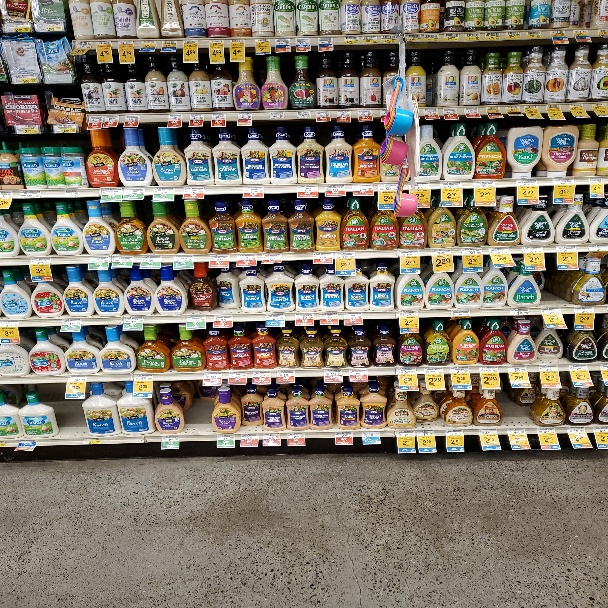All PRICE TAGS: (37, 22, 63, 32), (11, 75, 37, 84), (6, 23, 30, 32), (53, 124, 77, 133), (16, 126, 39, 134), (472, 181, 495, 188), (132, 373, 154, 380), (113, 255, 134, 262), (377, 183, 398, 190), (243, 186, 264, 193), (20, 191, 41, 198), (30, 258, 51, 265), (89, 256, 110, 263), (522, 246, 543, 253), (297, 185, 318, 192), (574, 307, 595, 314), (541, 308, 562, 315), (236, 253, 256, 260), (174, 254, 194, 261), (154, 187, 174, 194), (441, 182, 461, 189), (588, 245, 608, 252), (451, 310, 471, 317), (398, 311, 418, 318), (400, 250, 420, 257), (208, 40, 225, 48), (161, 435, 180, 442), (187, 315, 206, 322), (335, 252, 354, 259), (262, 253, 281, 260), (539, 365, 558, 372), (424, 367, 443, 374), (352, 184, 374, 190), (123, 188, 145, 194), (553, 179, 575, 185), (241, 432, 259, 439), (102, 188, 120, 195), (516, 180, 537, 186), (556, 246, 577, 252), (489, 248, 510, 254), (399, 368, 417, 375), (343, 312, 363, 318), (325, 184, 345, 190), (183, 187, 203, 193), (510, 309, 530, 315), (449, 367, 469, 373), (566, 427, 586, 433), (478, 429, 498, 435), (76, 41, 91, 49), (205, 371, 222, 378), (267, 313, 284, 320), (381, 35, 398, 42), (568, 104, 585, 111), (461, 249, 484, 254), (430, 250, 453, 255), (335, 431, 354, 437), (349, 369, 368, 375), (324, 369, 343, 375), (276, 370, 295, 376), (319, 312, 338, 318), (214, 315, 233, 321), (124, 317, 143, 323), (312, 253, 331, 259), (210, 254, 229, 260), (142, 255, 161, 261), (0, 321, 19, 327), (62, 319, 81, 325), (67, 376, 86, 382), (82, 438, 101, 444), (569, 365, 588, 371), (508, 366, 527, 372), (480, 367, 499, 373), (537, 428, 556, 434), (445, 430, 464, 436), (416, 430, 435, 436), (396, 430, 415, 436), (335, 110, 351, 117), (345, 36, 361, 43), (592, 103, 608, 110), (184, 40, 198, 48), (444, 33, 458, 41), (161, 40, 177, 47), (253, 371, 271, 377), (229, 371, 247, 377), (269, 111, 284, 118), (414, 183, 429, 190), (524, 105, 539, 112), (464, 107, 479, 114), (527, 32, 542, 39), (505, 32, 520, 39), (275, 39, 290, 46), (363, 431, 380, 437), (218, 433, 235, 439), (294, 38, 311, 44), (168, 114, 182, 121), (65, 189, 79, 196), (547, 105, 561, 112), (363, 36, 377, 43), (288, 432, 304, 438), (264, 432, 280, 438), (298, 313, 314, 319), (124, 115, 140, 121), (318, 38, 334, 44), (229, 39, 245, 45), (550, 31, 566, 37), (96, 40, 112, 46), (118, 40, 134, 46), (507, 429, 526, 434), (357, 110, 372, 116), (256, 39, 271, 45), (316, 111, 331, 117), (296, 112, 311, 118), (211, 114, 226, 120), (593, 427, 608, 433), (506, 106, 521, 112), (486, 107, 501, 113), (573, 30, 588, 36), (485, 33, 500, 39), (407, 35, 422, 41), (141, 40, 156, 46), (238, 113, 252, 119), (104, 116, 118, 122), (89, 116, 101, 123), (589, 178, 603, 184), (443, 108, 457, 114), (424, 109, 438, 115), (465, 34, 479, 40), (424, 35, 438, 41), (190, 114, 203, 120), (0, 192, 11, 197), (598, 29, 607, 35), (600, 364, 608, 370)
